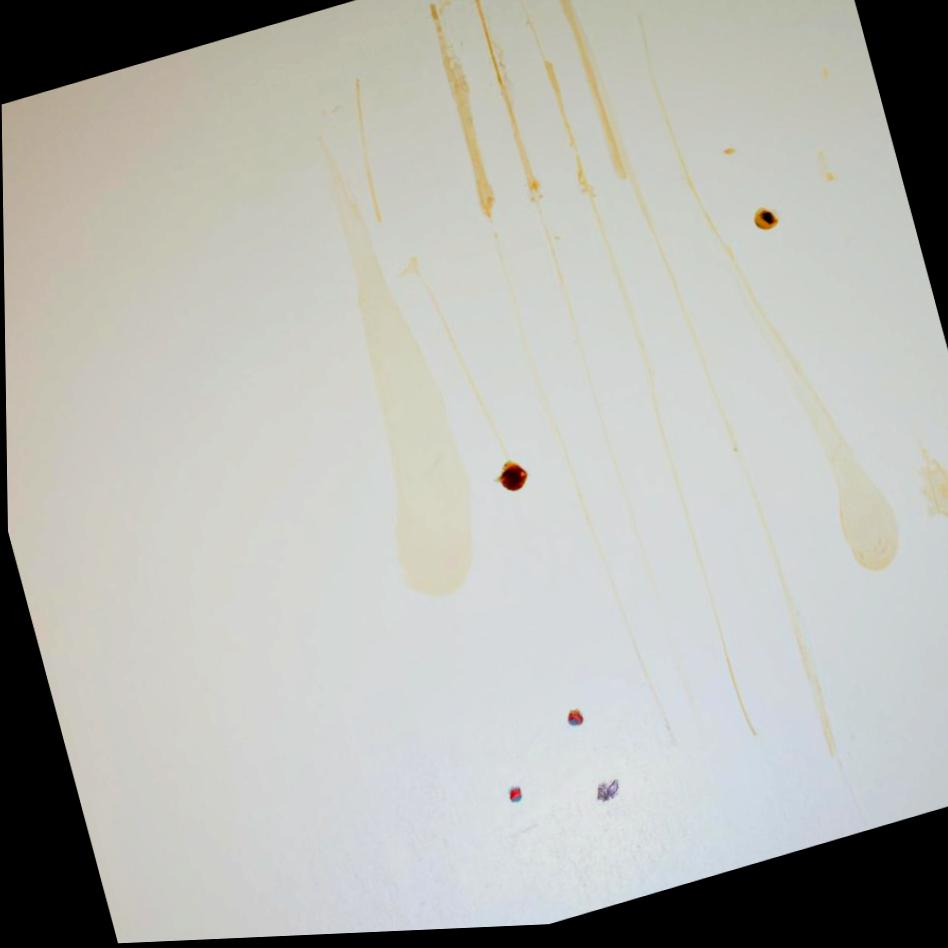Fire: (493, 465, 526, 496)
